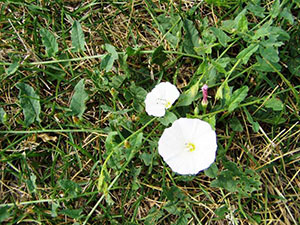bindweed: (157, 116, 218, 174), (144, 81, 180, 117)
